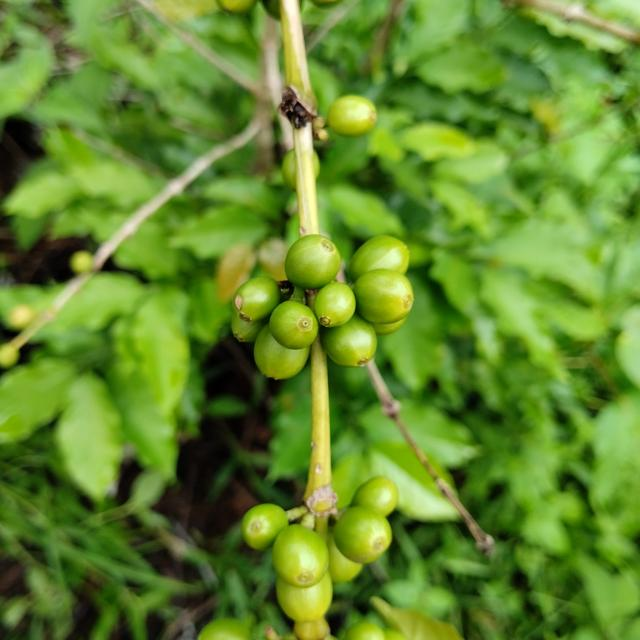green: (272, 525, 329, 589), (333, 507, 392, 565), (353, 269, 414, 324), (285, 234, 341, 289), (254, 325, 310, 380), (321, 314, 377, 367), (276, 572, 333, 623), (349, 235, 410, 280), (269, 300, 319, 350), (241, 504, 289, 551), (232, 276, 281, 322), (327, 94, 377, 136), (351, 477, 399, 517), (314, 282, 356, 327), (327, 532, 363, 584), (231, 311, 268, 342), (371, 318, 406, 336), (282, 148, 296, 189), (313, 149, 320, 178)
